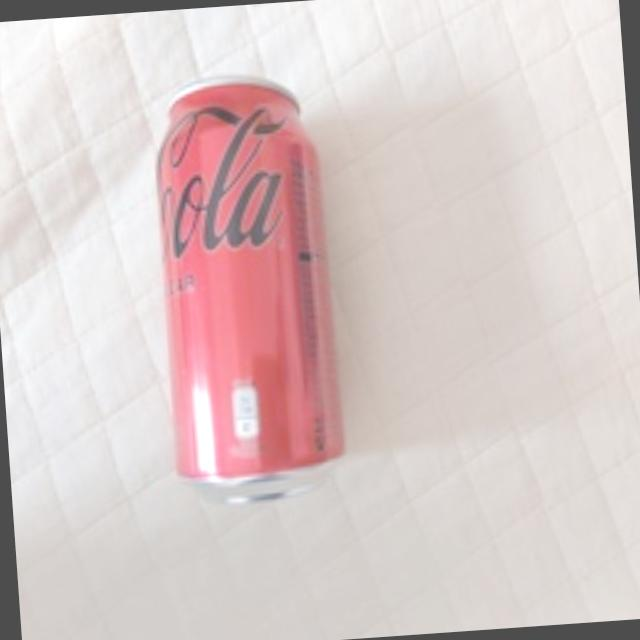Metal: (146, 64, 344, 506)
